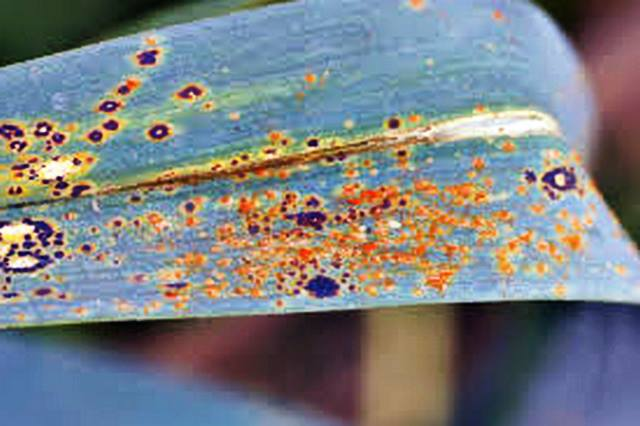Leaf Rust: (13, 43, 476, 319)
